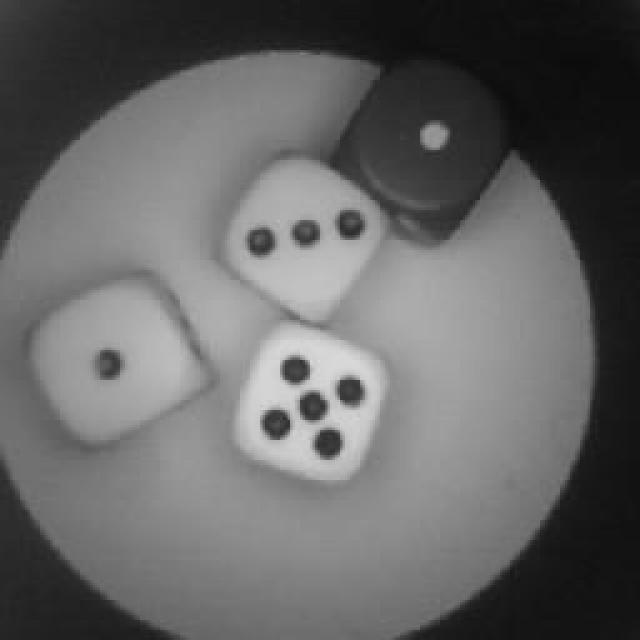dice_1: (20, 270, 205, 448), (340, 58, 508, 232)
dice_3: (232, 155, 372, 315)
dice_5: (232, 322, 388, 480)
